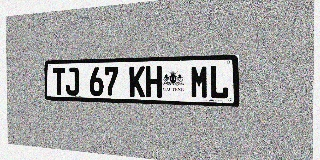6: (89, 67, 104, 96)
7: (104, 67, 119, 97)
H: (146, 66, 162, 98)
J: (66, 67, 79, 96)
K: (129, 66, 145, 97)
L: (209, 65, 229, 99)
M: (190, 65, 209, 99)
T: (53, 68, 65, 95)
